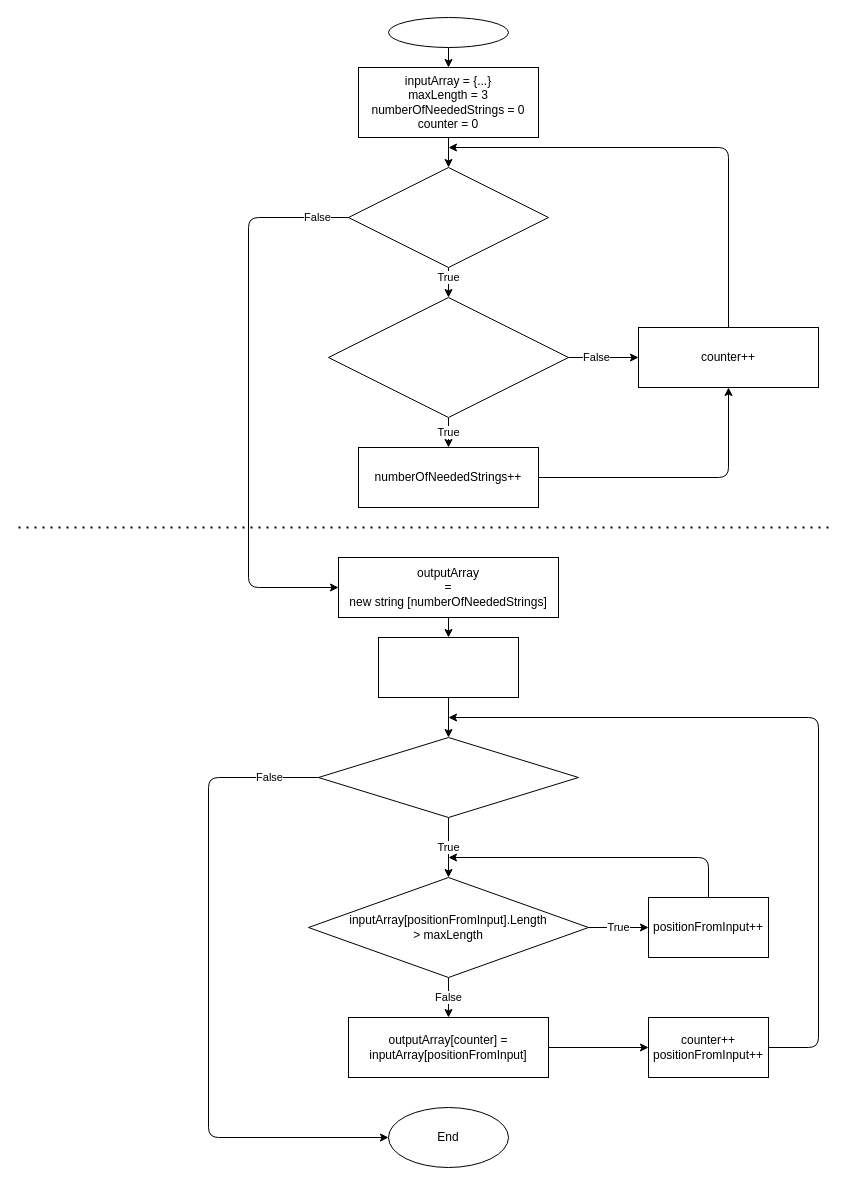
This 847x1185 diagram has some shape labels left out. The centre of each missing label's shape, as x and y in pixels:
counter < inputArray.Length: [448,217]
counter < numberOfNeededStrings: [448,777]
inputArray[counter].Length <= maxLength: [448,357]
positionFromInput = 0 counter = 0: [448,667]
Start: [448,32]
